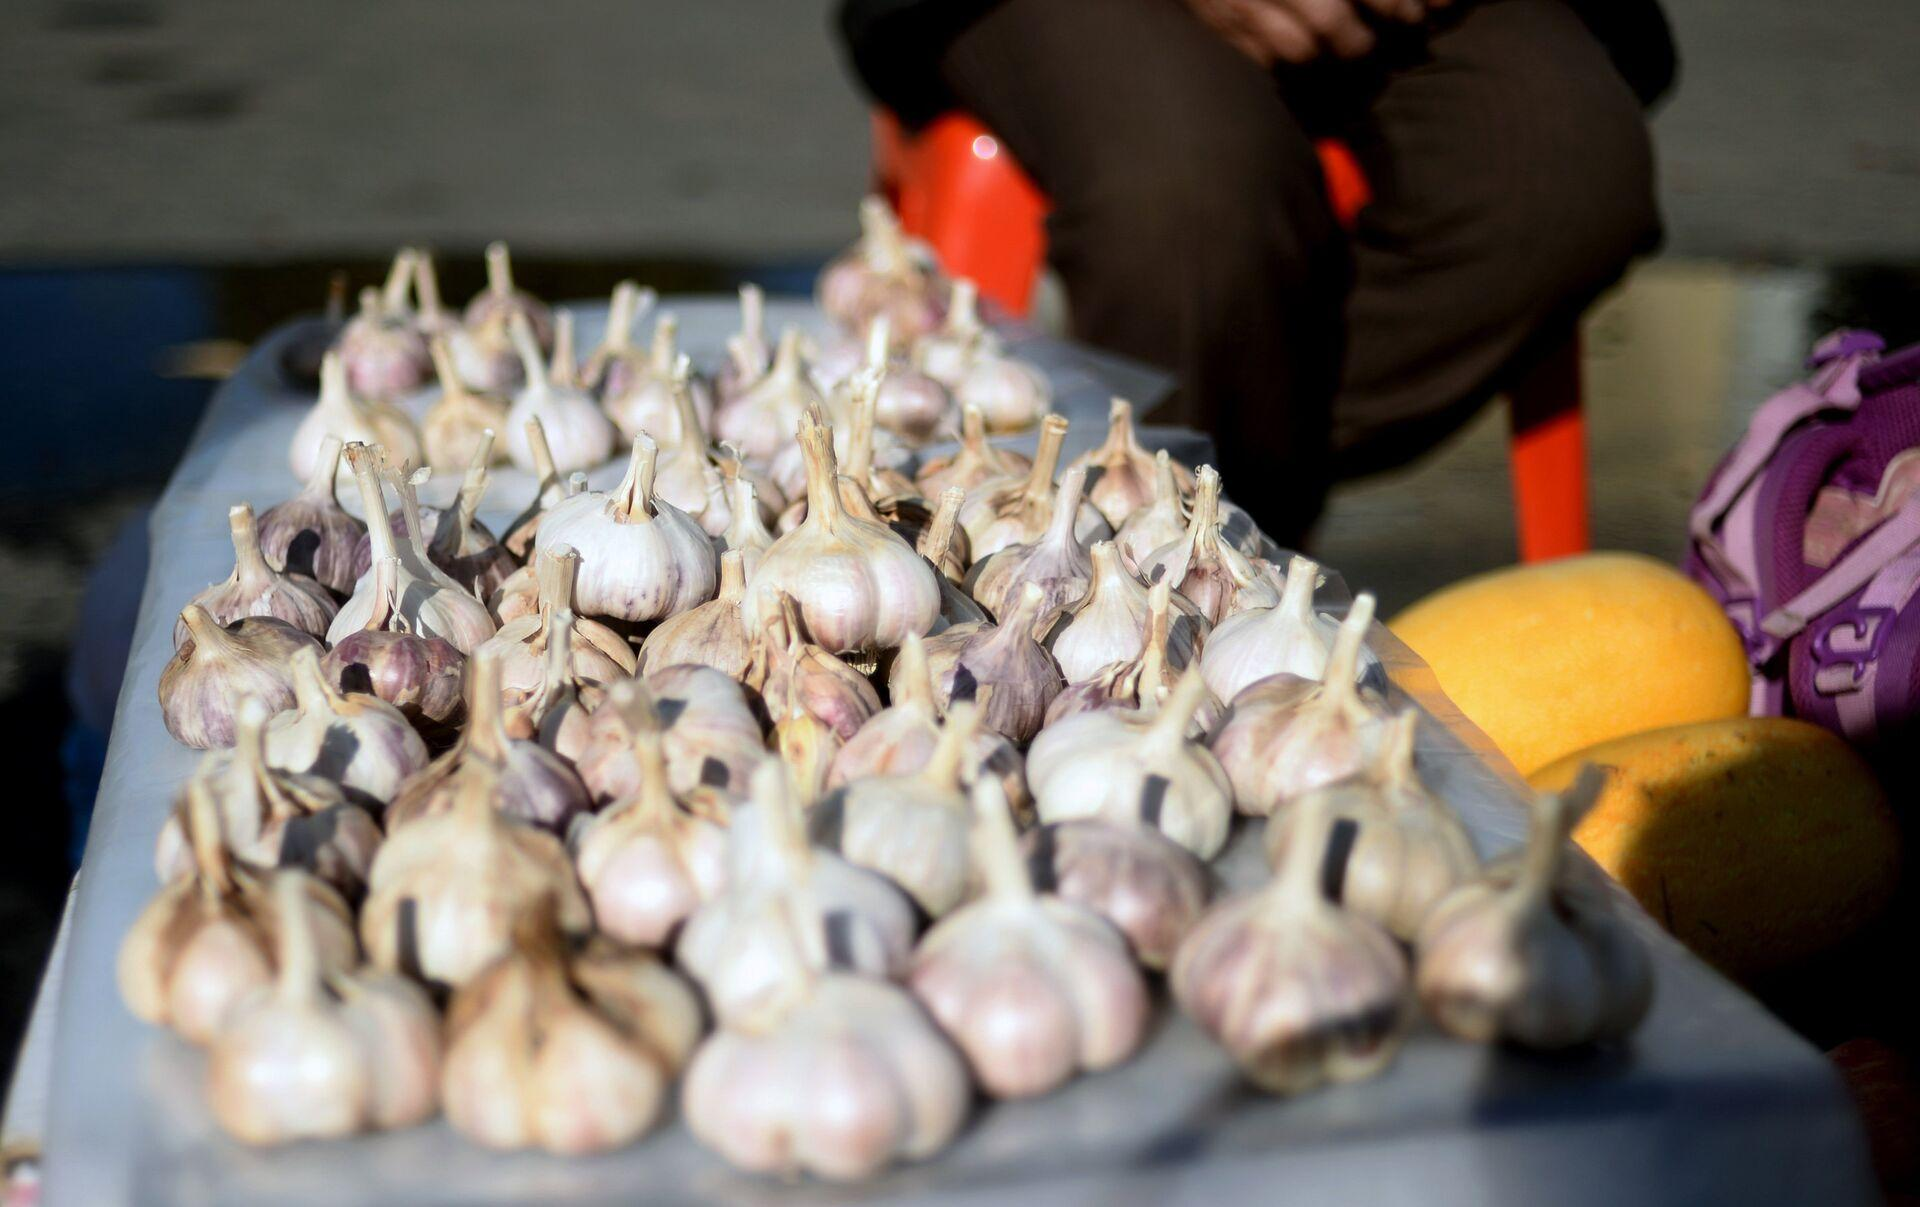garlic: (168, 270, 1630, 1142)
